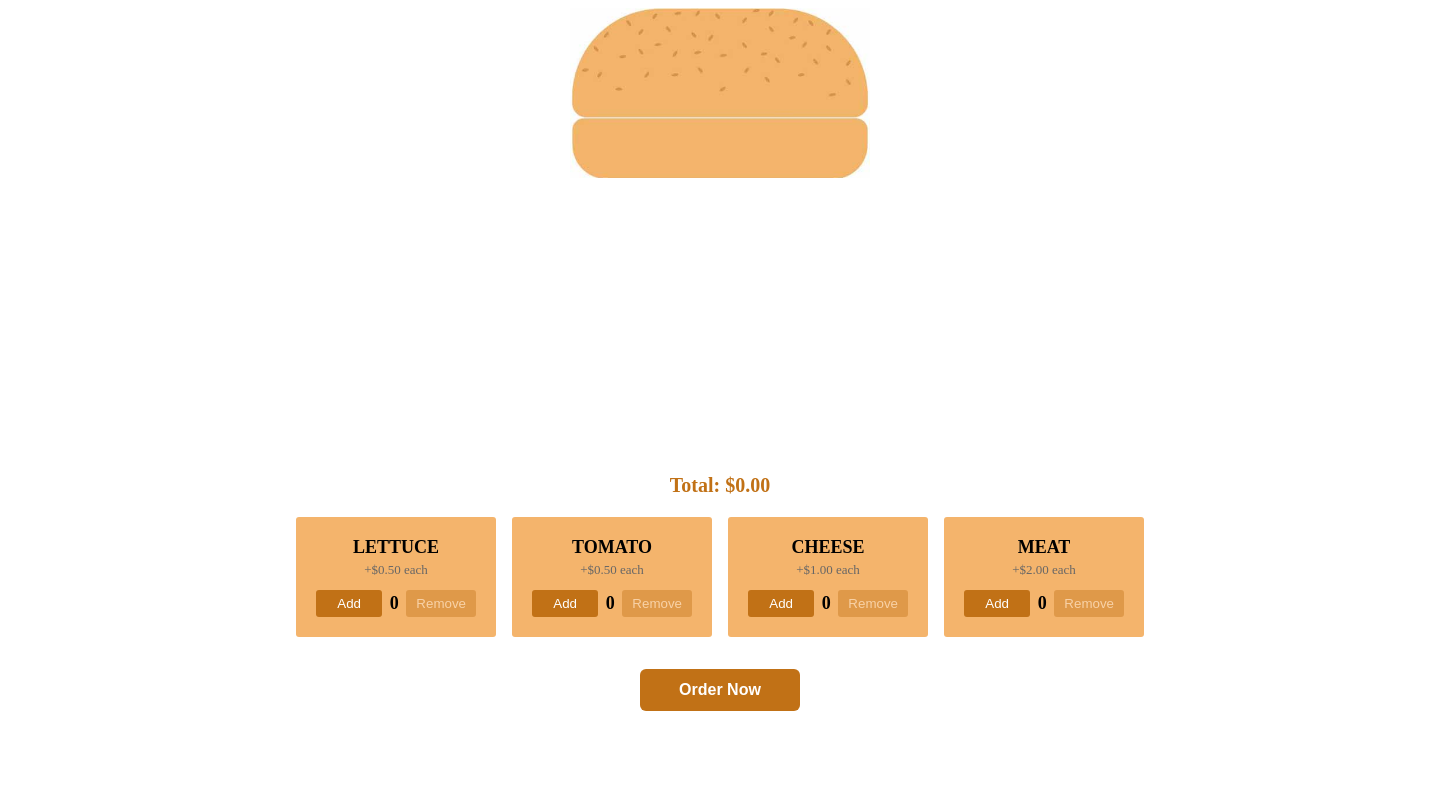
Test: Burger › closes modal when Close is clicked
Click the button "Order Now" at (720, 690), box top-left (640, 669), bottom-right (800, 711)
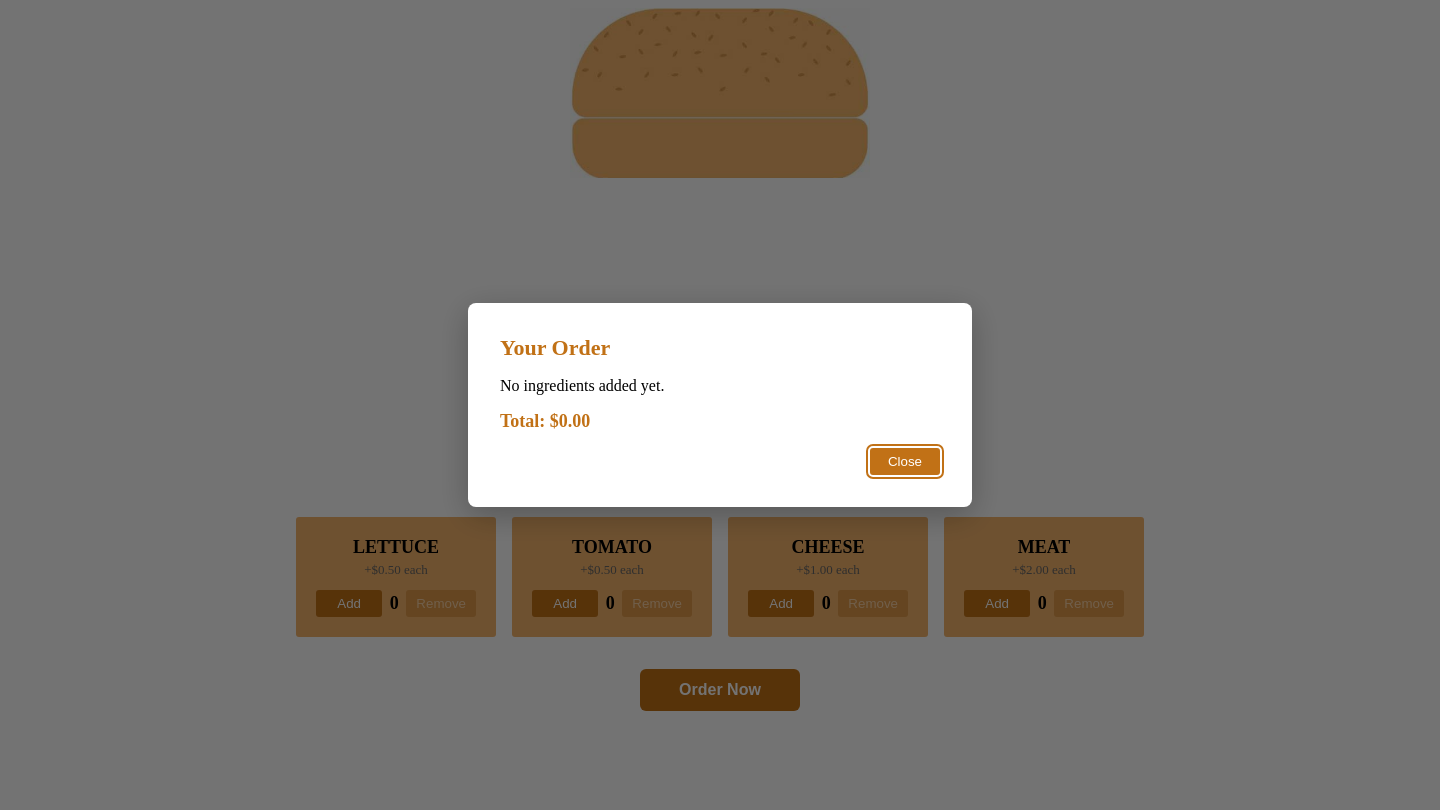
Click the button "Close" at (905, 462), box top-left (870, 448), bottom-right (940, 475)
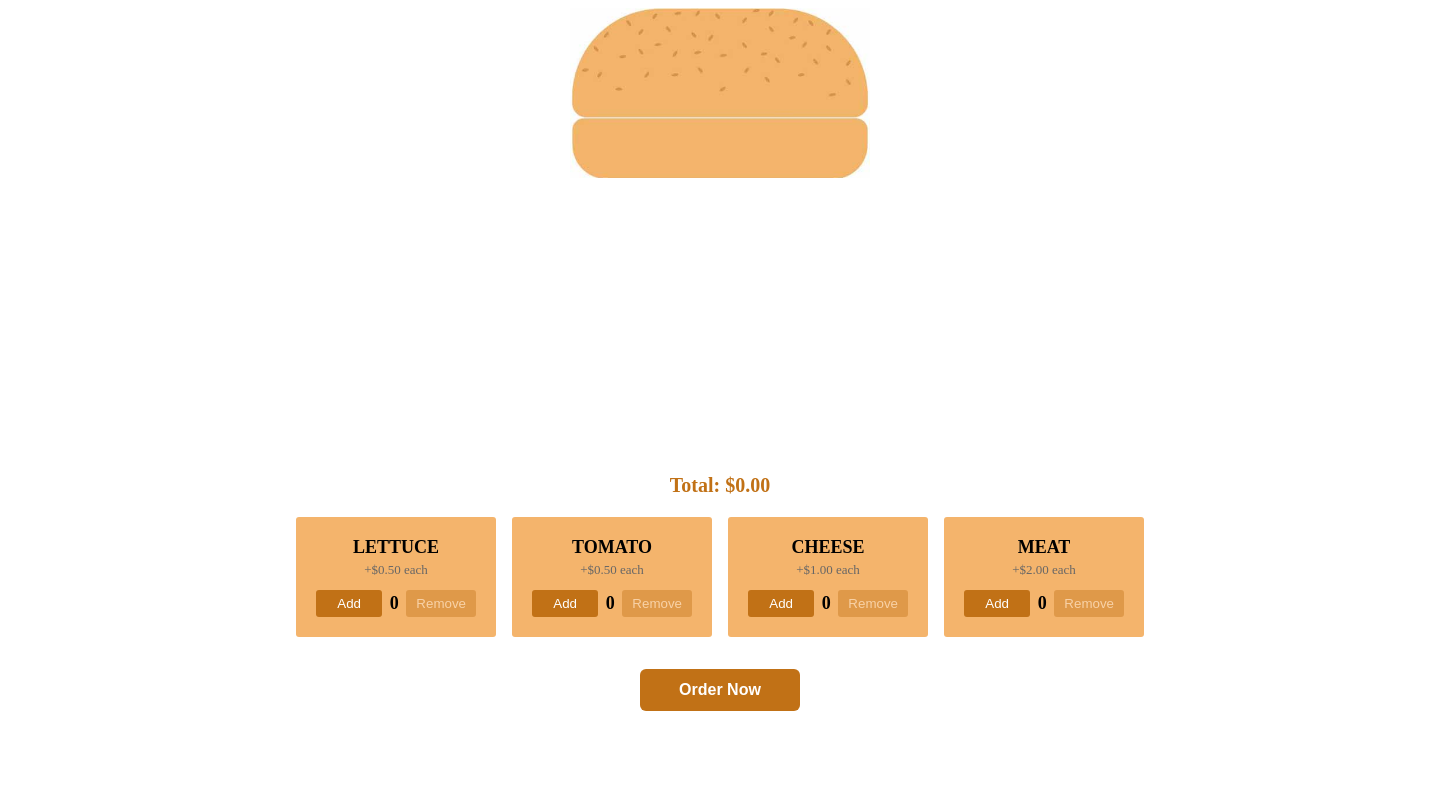
Expected: the heading "Your Order" is gone
